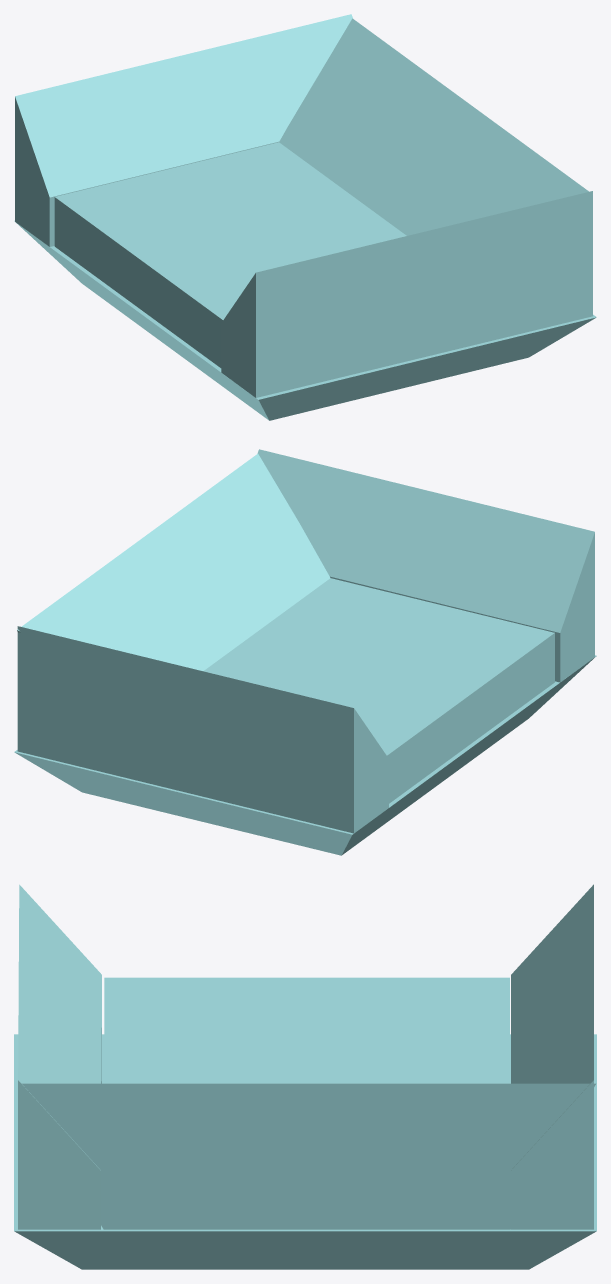
File: sofa_2.glb
3 renders of one model, top to bottom at view 1: azimuth 30°, elevation 25°; view 2: azimuth 150°, elevation 25°; view 3: azimuth 270°, elevation 25°, orthographic. The views are drawn at different scales.
Visible parts, largest first — view 1: 立方体; view 2: 立方体; view 3: 立方体.
Part boxes in pixels (x1=…): 立方体: x1=14, y1=14, x2=596, y2=420; 立方体: x1=14, y1=449, x2=596, y2=855; 立方体: x1=14, y1=884, x2=596, y2=1269.
Size of the model in its own units: 0.8 by 0.4 by 1.
